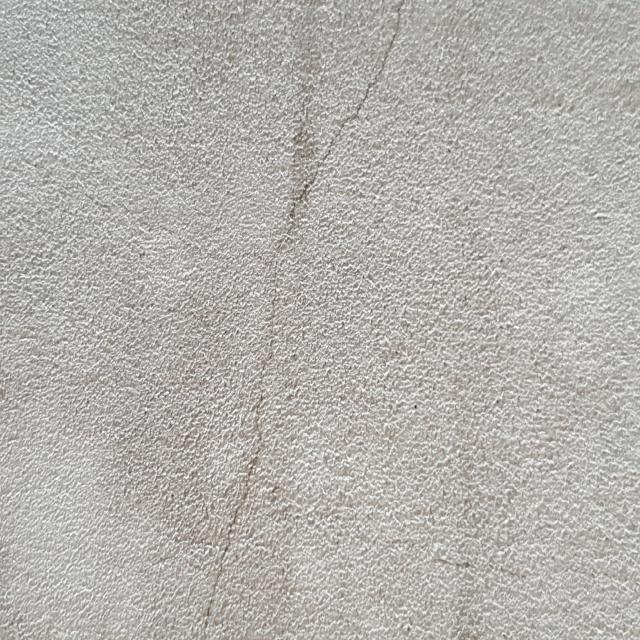SurfaceCrack: (2, 1, 606, 571)
